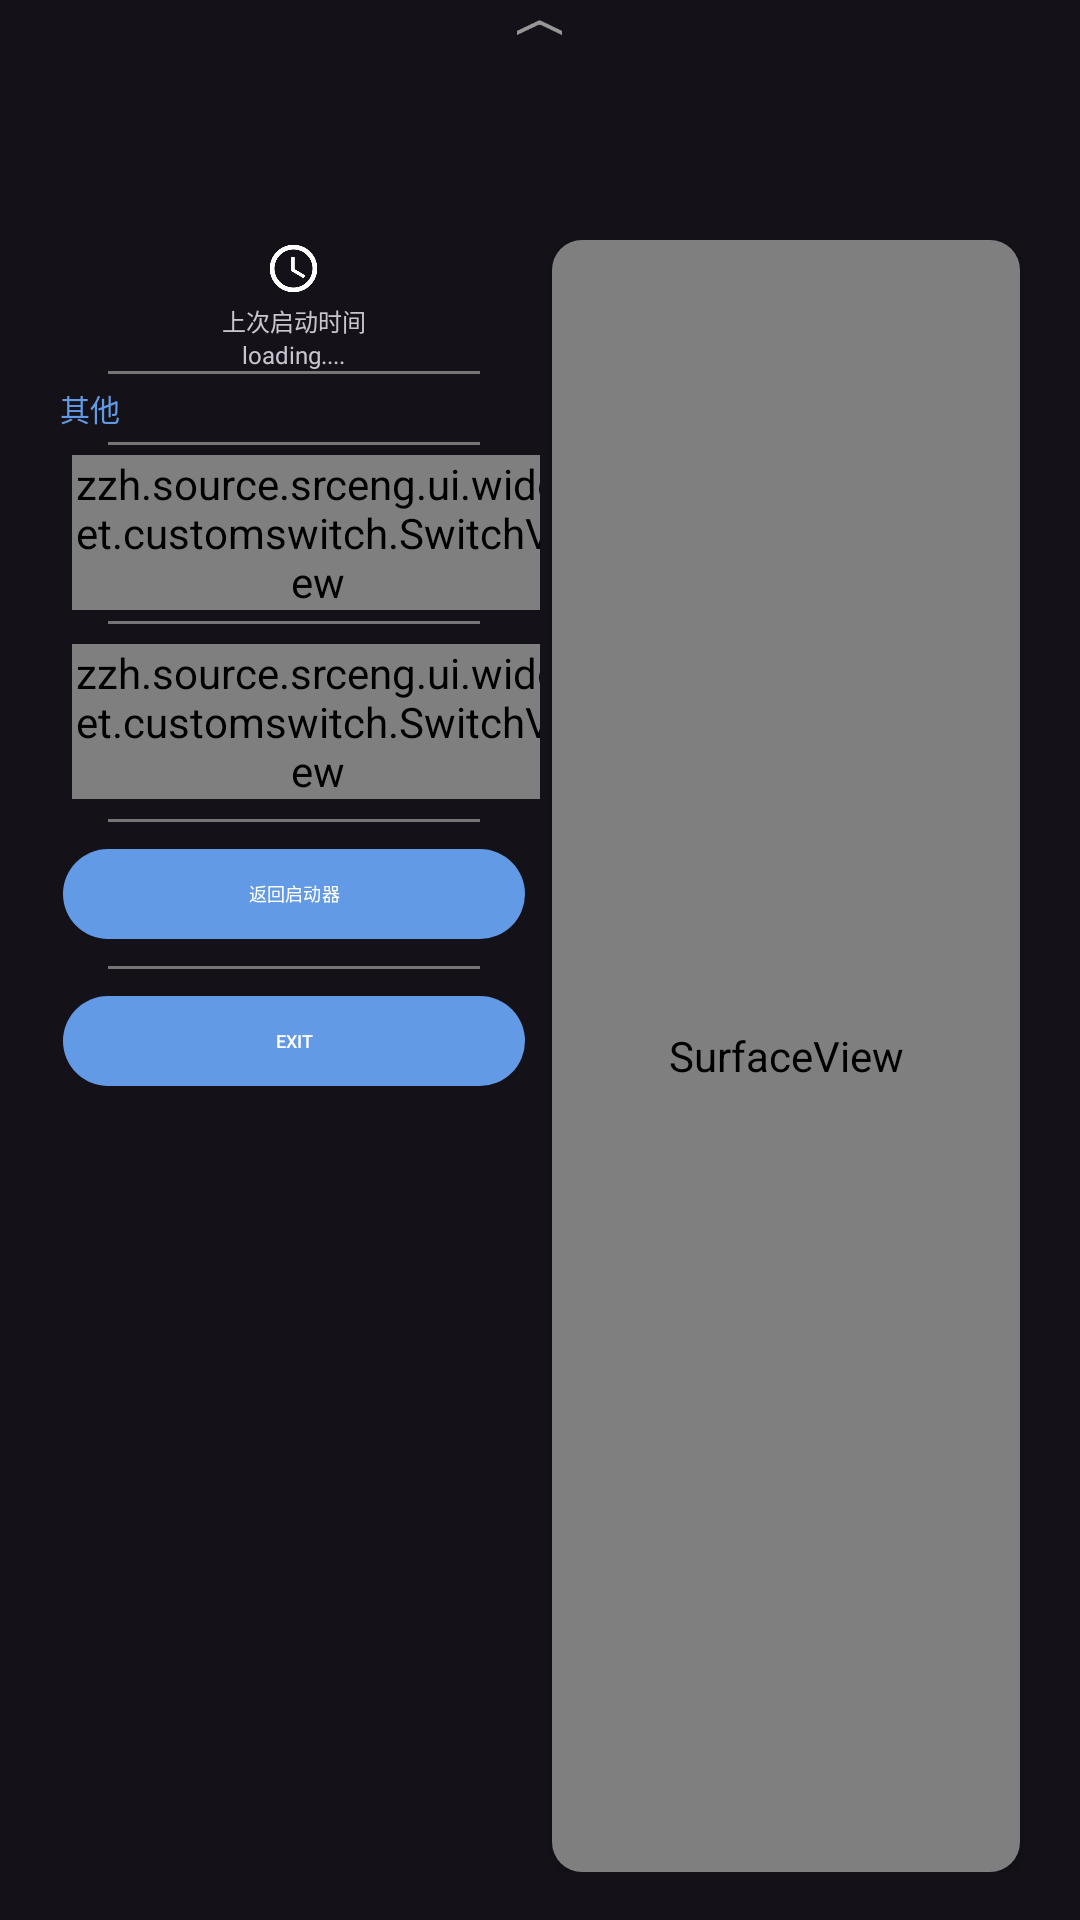

Named icons in this screenshot (1080 x 1920) and their centers, [x,y]:
clock: [293,268]
